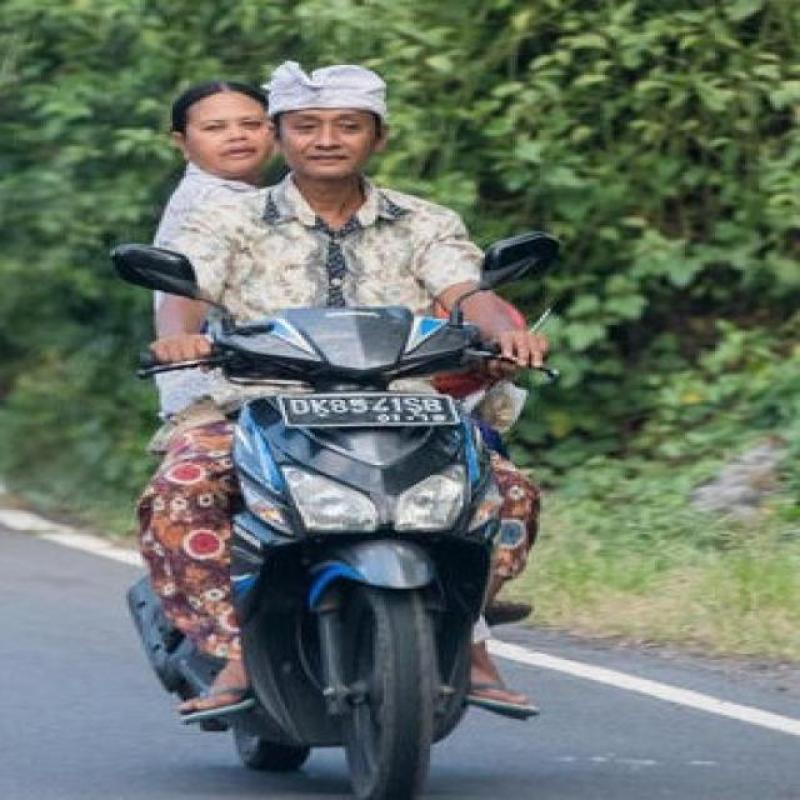nohelmet: (260, 47, 398, 182), (170, 86, 270, 180)
